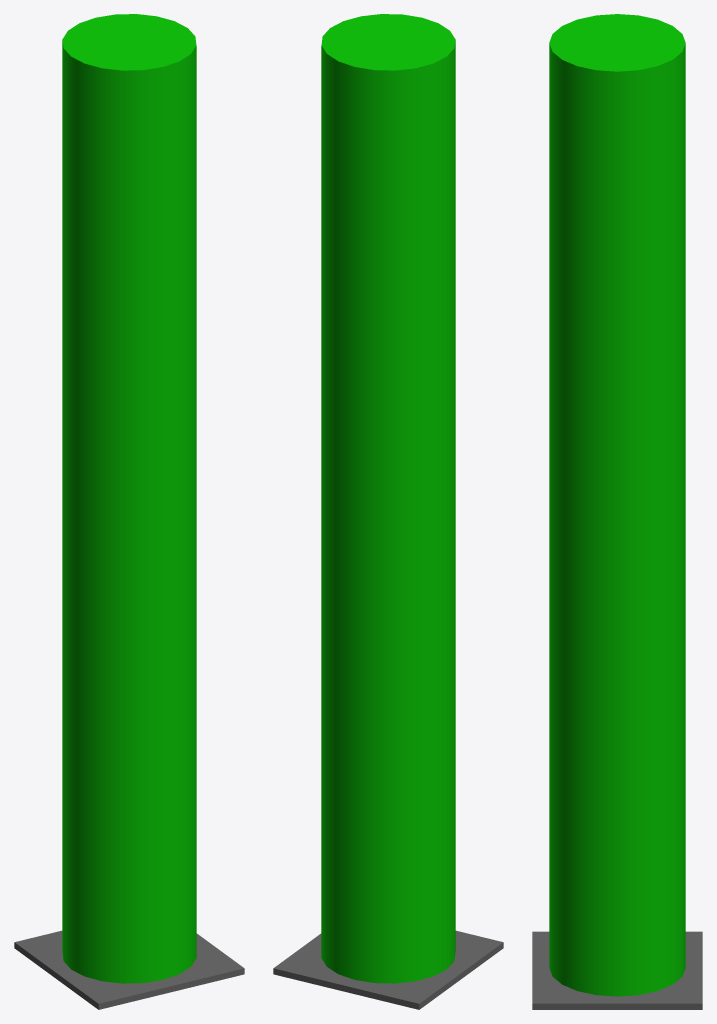
File: GreenPylon.fbx
3 views of the same model, side by side, from view 1: azimuth 30°, elevation 25°; view 2: azimuth 150°, elevation 25°; view 3: azimuth 270°, elevation 25° (orthographic).
Parts seen in each view (by area): view 1: pCylinder1, pCube1; view 2: pCylinder1, pCube1; view 3: pCylinder1, pCube1.
Boxes of the visible parts, bbox=[...] form: pCylinder1: bbox=[62, 14, 196, 983]; pCube1: bbox=[14, 930, 244, 1009]; pCylinder1: bbox=[321, 14, 455, 983]; pCube1: bbox=[273, 930, 503, 1009]; pCylinder1: bbox=[549, 14, 685, 996]; pCube1: bbox=[532, 931, 702, 1009].
Size of the model in its own units: 0.05 by 0.301 by 0.05.
